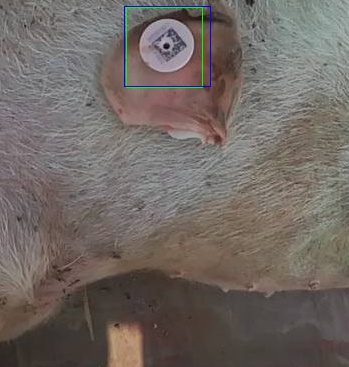text: (126, 7, 202, 87)
